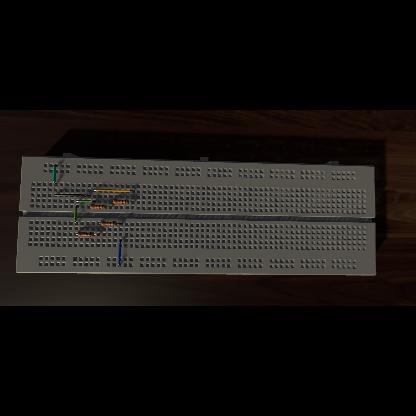breadboard: (16, 154, 376, 276)
resistor: (77, 233, 94, 237), (113, 200, 129, 204), (91, 205, 107, 209), (101, 222, 117, 226)
wire: (118, 240, 122, 266), (53, 165, 58, 185), (94, 190, 134, 192), (54, 194, 90, 196), (75, 207, 79, 224), (76, 201, 96, 203), (94, 233, 100, 235), (118, 223, 122, 224), (76, 233, 78, 235), (99, 223, 101, 224), (111, 202, 113, 202), (130, 202, 134, 202)
